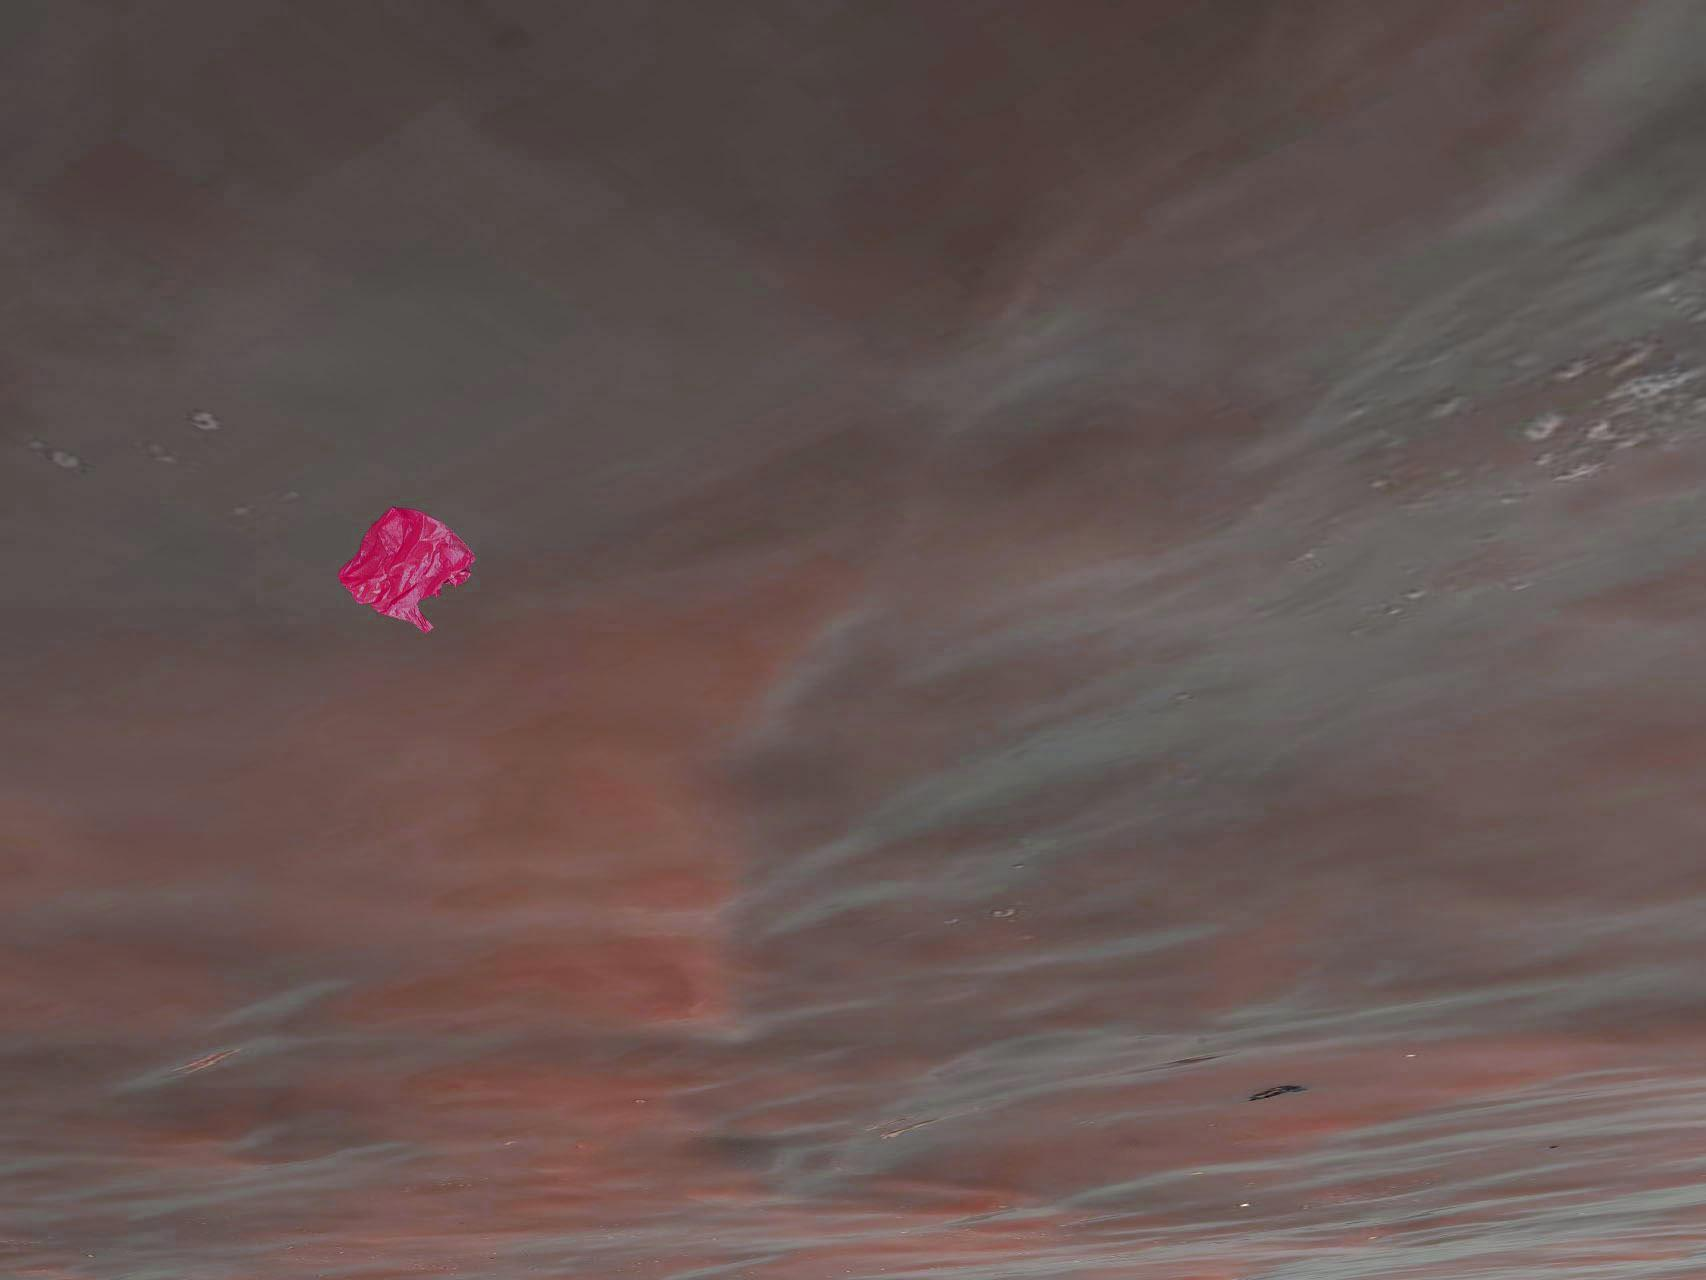Trash: (340, 511, 476, 635)
